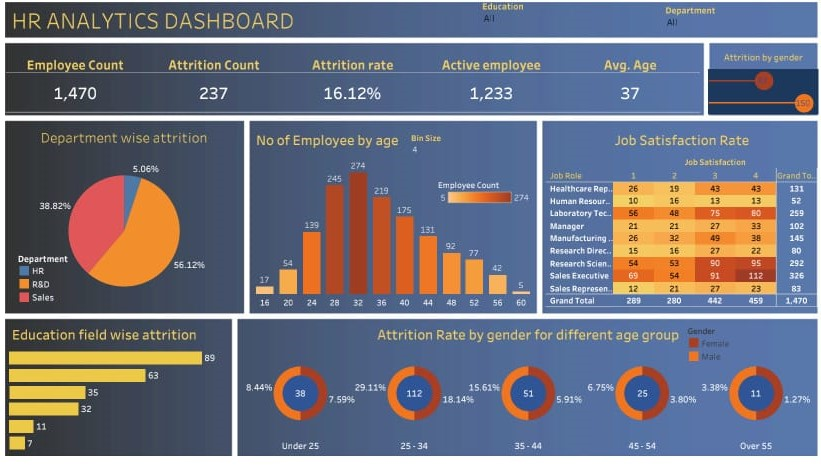

Layout of this report page (visuals, bound fields, positions):
{"tool":"tableau","page":{"name":"HR ANALYSTICS DASHBOARD","canvas":[1300,700],"ordinal":0},"visuals":[{"type":"image","param":"E:/Download f-2024/Picture1.png","box":[8,8,1284,684]},{"type":"filter","title":"Department wise attrition","param":"[federated.0sd66hk1tsqqn31h8hui21yvq82t].[none:Education:nk]","box":[756,8,160,58]},{"type":"filter","title":"Department wise attrition","param":"[federated.0sd66hk1tsqqn31h8hui21yvq82t].[none:Department:nk]","box":[1029,14,160,48]},{"type":"text","box":[52,16,478,45]},{"type":"worksheet","title":"KPI","mark":"Automatic","box":[46,77,1035,100]},{"type":"worksheet","title":"Attrition by Gender","mark":"Bar","rows":["Gender"],"cols":["Calculation_123286096138964992","Calculation_123286096138964992"],"box":[1093,79,164,100]},{"type":"worksheet","title":"Department wise attrition","mark":"Pie","box":[50,193,344,277]},{"type":"worksheet","title":"No of Employee by age","mark":"Automatic","rows":["Employee Count"],"cols":["Age (bin)"],"box":[415,197,416,271]},{"type":"worksheet","title":"Job Satisfaction Rate","mark":"Square","rows":["Job Role"],"cols":["Job Satisfaction"],"box":[851,197,405,270]},{"type":"parameter","param":"[Parameters].[Parameter 1]","box":[650,205,176,72]},{"type":"legend","title":"No of Employee by age","param":"[federated.0sd66hk1tsqqn31h8hui21yvq82t].[sum:Employee Count:qk]","box":[690,272,140,54]},{"type":"legend","title":"Department wise attrition","param":"[federated.0sd66hk1tsqqn31h8hui21yvq82t].[none:Department:nk]","box":[63,383,110,77]},{"type":"worksheet","title":"Education field wise attrition","mark":"Automatic","rows":["Education Field"],"cols":["Calculation_123286096138964992"],"box":[51,487,326,195]},{"type":"worksheet","title":"Attrition Rate by gender for different age group","mark":"Pie","rows":["Calculation_673006725748498435","Calculation_673006725748498435"],"cols":["CF_age band"],"box":[400,487,849,195]},{"type":"legend","title":"Attrition Rate by gender for different age group","param":"[federated.0sd66hk1tsqqn31h8hui21yvq82t].[none:Gender:nk]","box":[1061,492,106,59]}]}

Visuals, with their boxes in screenshot pixels (x1, y1, x2, y2):
image: <box>0,0,820,455</box>
"Department wise attrition" filter: <box>476,0,583,36</box>
"Department wise attrition" filter: <box>659,1,766,33</box>
text: <box>5,2,325,32</box>
"KPI" worksheet: <box>1,43,694,110</box>
"Attrition by Gender" worksheet (Bar marks): <box>702,44,812,111</box>
"Department wise attrition" worksheet (Pie marks): <box>4,121,234,306</box>
"No of Employee by age" worksheet: <box>248,123,526,305</box>
"Job Satisfaction Rate" worksheet (Square marks): <box>540,123,811,304</box>
parameter: <box>405,129,523,177</box>
"No of Employee by age" legend: <box>432,174,526,210</box>
"Department wise attrition" legend: <box>12,248,86,299</box>
"Education field wise attrition" worksheet: <box>4,317,222,448</box>
"Attrition Rate by gender for different age group" worksheet (Pie marks): <box>238,317,806,448</box>
"Attrition Rate by gender for different age group" legend: <box>680,321,751,360</box>
